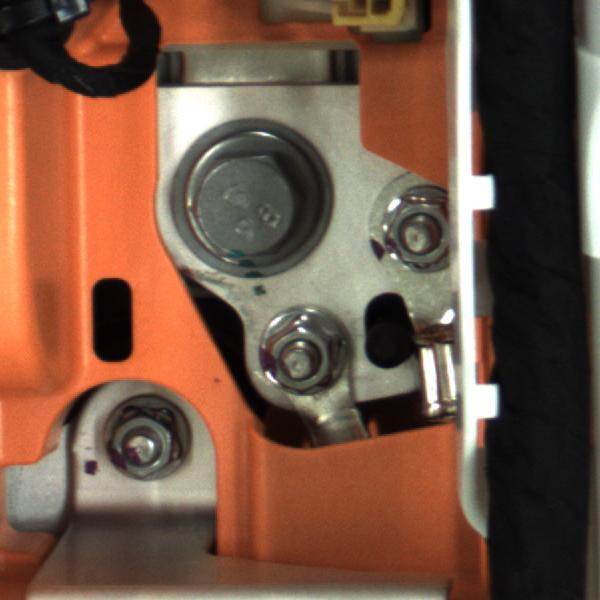nut_b: (150, 114, 327, 273)
screw_s: (253, 311, 362, 401), (92, 396, 191, 490), (372, 192, 453, 275)
